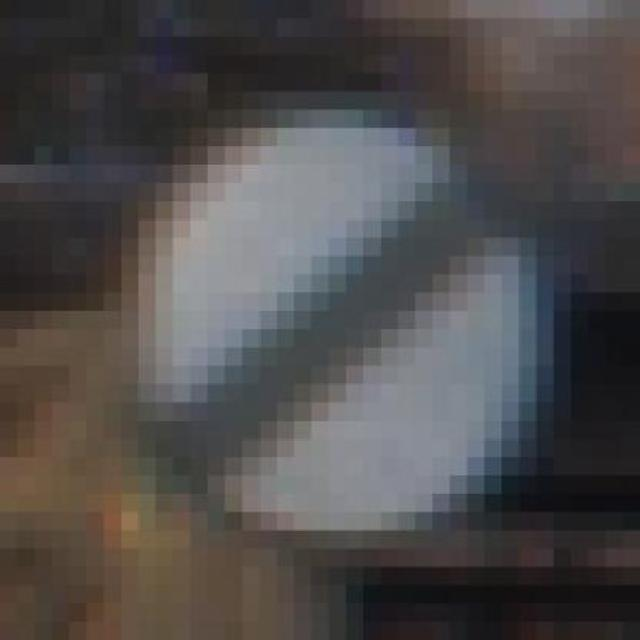End of all speed and passing limits: (102, 116, 586, 538)
